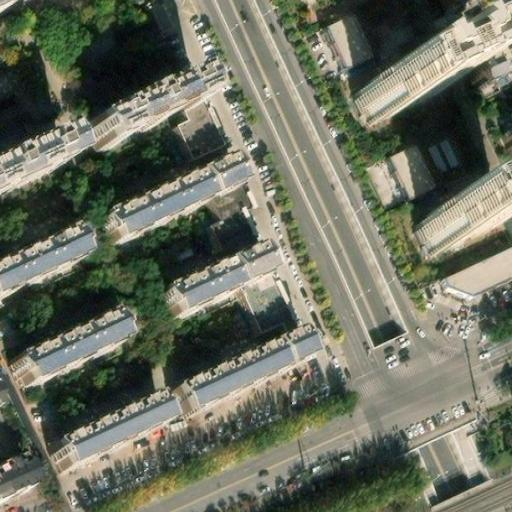building: (173, 334, 310, 417), (100, 159, 230, 241), (218, 211, 296, 325), (85, 81, 198, 159), (180, 99, 249, 223), (157, 246, 270, 319), (49, 402, 162, 474), (8, 317, 116, 389), (412, 184, 497, 255), (355, 54, 440, 124), (0, 141, 66, 197), (445, 247, 512, 297), (391, 142, 442, 201), (462, 38, 512, 91), (327, 14, 371, 66), (491, 189, 512, 236)
